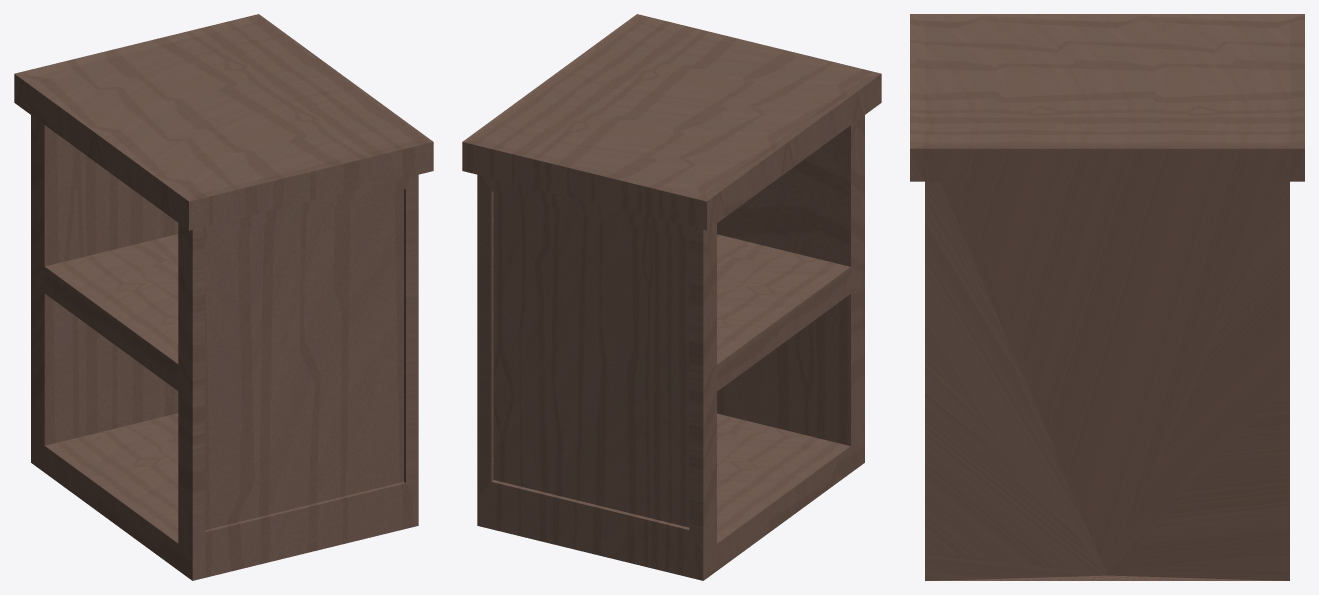
File: Bookcase_single.fbx
The picture shows the model from 3 angles, left to right: view 1: azimuth 30°, elevation 25°; view 2: azimuth 150°, elevation 25°; view 3: azimuth 270°, elevation 25°; orthographic projection. The views are drawn at different scales.
Visible parts, largest first — view 1: bOOKCASE.002; view 2: bOOKCASE.002; view 3: bOOKCASE.002.
Part boxes in pixels (x1,y1,x2,y2): bOOKCASE.002: (14, 14, 433, 580); bOOKCASE.002: (462, 14, 881, 580); bOOKCASE.002: (910, 14, 1304, 580).
Bounding box in the file's own units: 64.24 × 97.05 × 79.51.
